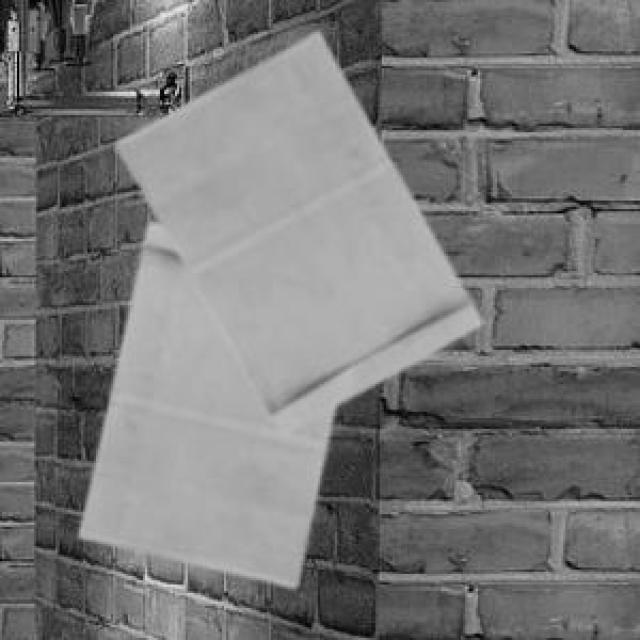paper: (113, 30, 476, 429), (77, 220, 331, 582)
